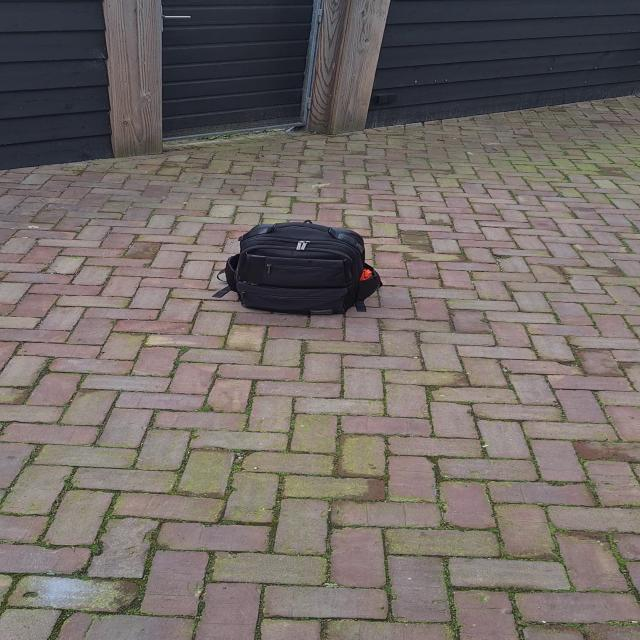backpack: (214, 217, 384, 317)
